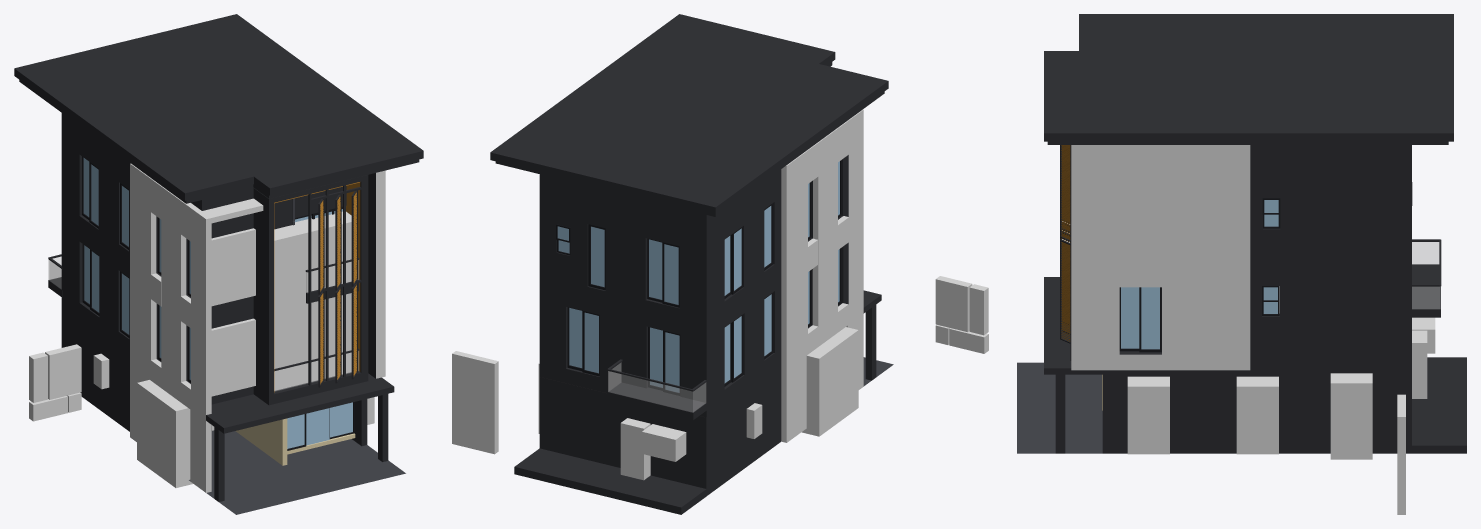
Rendered from rumah3.glb.
The picture shows the model from 3 angles, left to right: view 1: azimuth 30°, elevation 25°; view 2: azimuth 150°, elevation 25°; view 3: azimuth 270°, elevation 25°; orthographic projection. The views are drawn at different scales.
Visible parts, largest first — view 1: Plane.011, Cube.006, Cube.024, Cube.005, Plane.049, Cube.039, Cube, Cube.004, Cube.023, Plane.003, Cube.043, Cube.048 (+15 smaller); view 2: Plane.011, Cube.006, Cube.024, Cube, Plane.021, Plane.045, Cube.023, Cube.002, Cube.043, Plane.048, Plane.046, Cube.013 (+6 smaller); view 3: Cube.006, Plane.011, Cube, Cube.008, Plane.049, Plane.045, Cube.009, Plane.021, Plane.003, Cube.147, Plane.046, Plane.048 (+6 smaller).
Boxes of the visible parts, left/top/right/bottom form: Plane.011: left=14, top=14, right=423, bottom=203; Cube.006: left=61, top=113, right=385, bottom=404; Cube.024: left=130, top=163, right=263, bottom=492; Cube.005: left=274, top=211, right=354, bottom=390; Plane.049: left=189, top=430, right=405, bottom=514; Cube.039: left=211, top=228, right=255, bottom=396; Cube: left=61, top=305, right=367, bottom=465; Cube.004: left=253, top=175, right=368, bottom=405; Cube.023: left=137, top=380, right=193, bottom=487; Plane.003: left=206, top=373, right=394, bottom=433; Cube.043: left=29, top=344, right=81, bottom=421; Cube.048: left=308, top=181, right=363, bottom=385; Plane.011: left=490, top=14, right=888, bottom=216; Cube.006: left=539, top=155, right=848, bottom=417; Cube.024: left=781, top=109, right=863, bottom=442; Cube: left=539, top=363, right=781, bottom=495; Plane.021: left=557, top=226, right=771, bottom=392; Plane.045: left=514, top=448, right=707, bottom=514; Cube.023: left=802, top=327, right=858, bottom=436; Cube.002: left=452, top=351, right=498, bottom=454; Cube.043: left=935, top=276, right=988, bottom=353; Plane.048: left=608, top=362, right=706, bottom=412; Plane.046: left=607, top=382, right=707, bottom=420; Cube.013: left=620, top=418, right=650, bottom=480; Cube.006: left=1071, top=145, right=1411, bottom=370; Plane.011: left=1044, top=14, right=1453, bottom=144; Cube: left=1102, top=368, right=1411, bottom=453; Cube.008: left=1127, top=376, right=1278, bottom=454; Plane.049: left=1017, top=362, right=1102, bottom=453; Plane.045: left=1412, top=357, right=1466, bottom=453; Cube.009: left=1330, top=373, right=1372, bottom=459; Plane.021: left=1121, top=200, right=1278, bottom=349; Plane.003: left=1044, top=277, right=1119, bottom=374; Cube.147: left=1061, top=145, right=1070, bottom=341; Plane.046: left=1412, top=264, right=1440, bottom=317; Plane.048: left=1412, top=242, right=1440, bottom=308.
Size of the model in its own units: 8.92 by 6.66 by 7.76.
